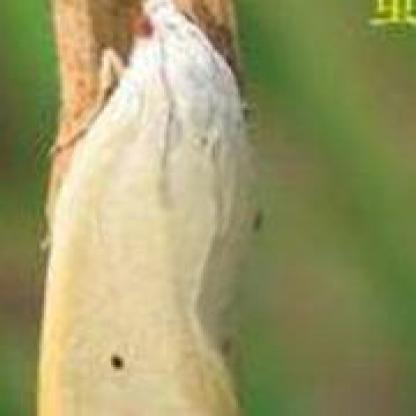stem-borer: (34, 0, 264, 416)
